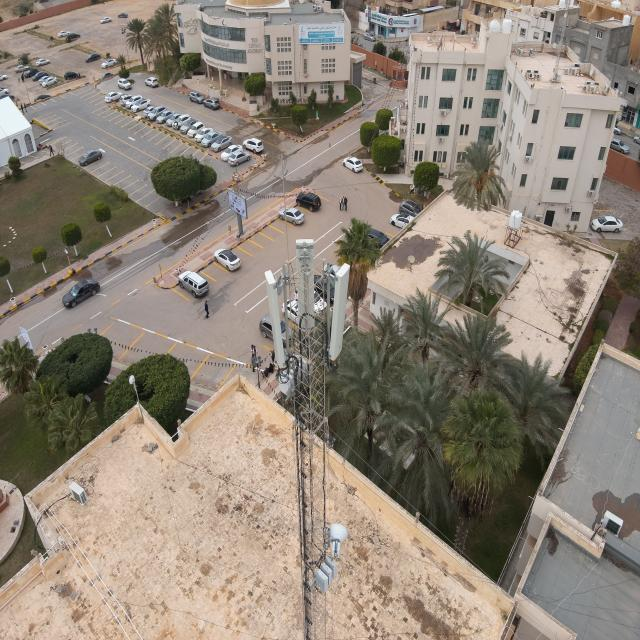antenna: (264, 268, 287, 372), (328, 260, 351, 361), (294, 238, 314, 334)
lighnig-rad: (279, 161, 291, 269)
microware-dish: (329, 519, 349, 560)
power-box: (316, 556, 339, 594)
